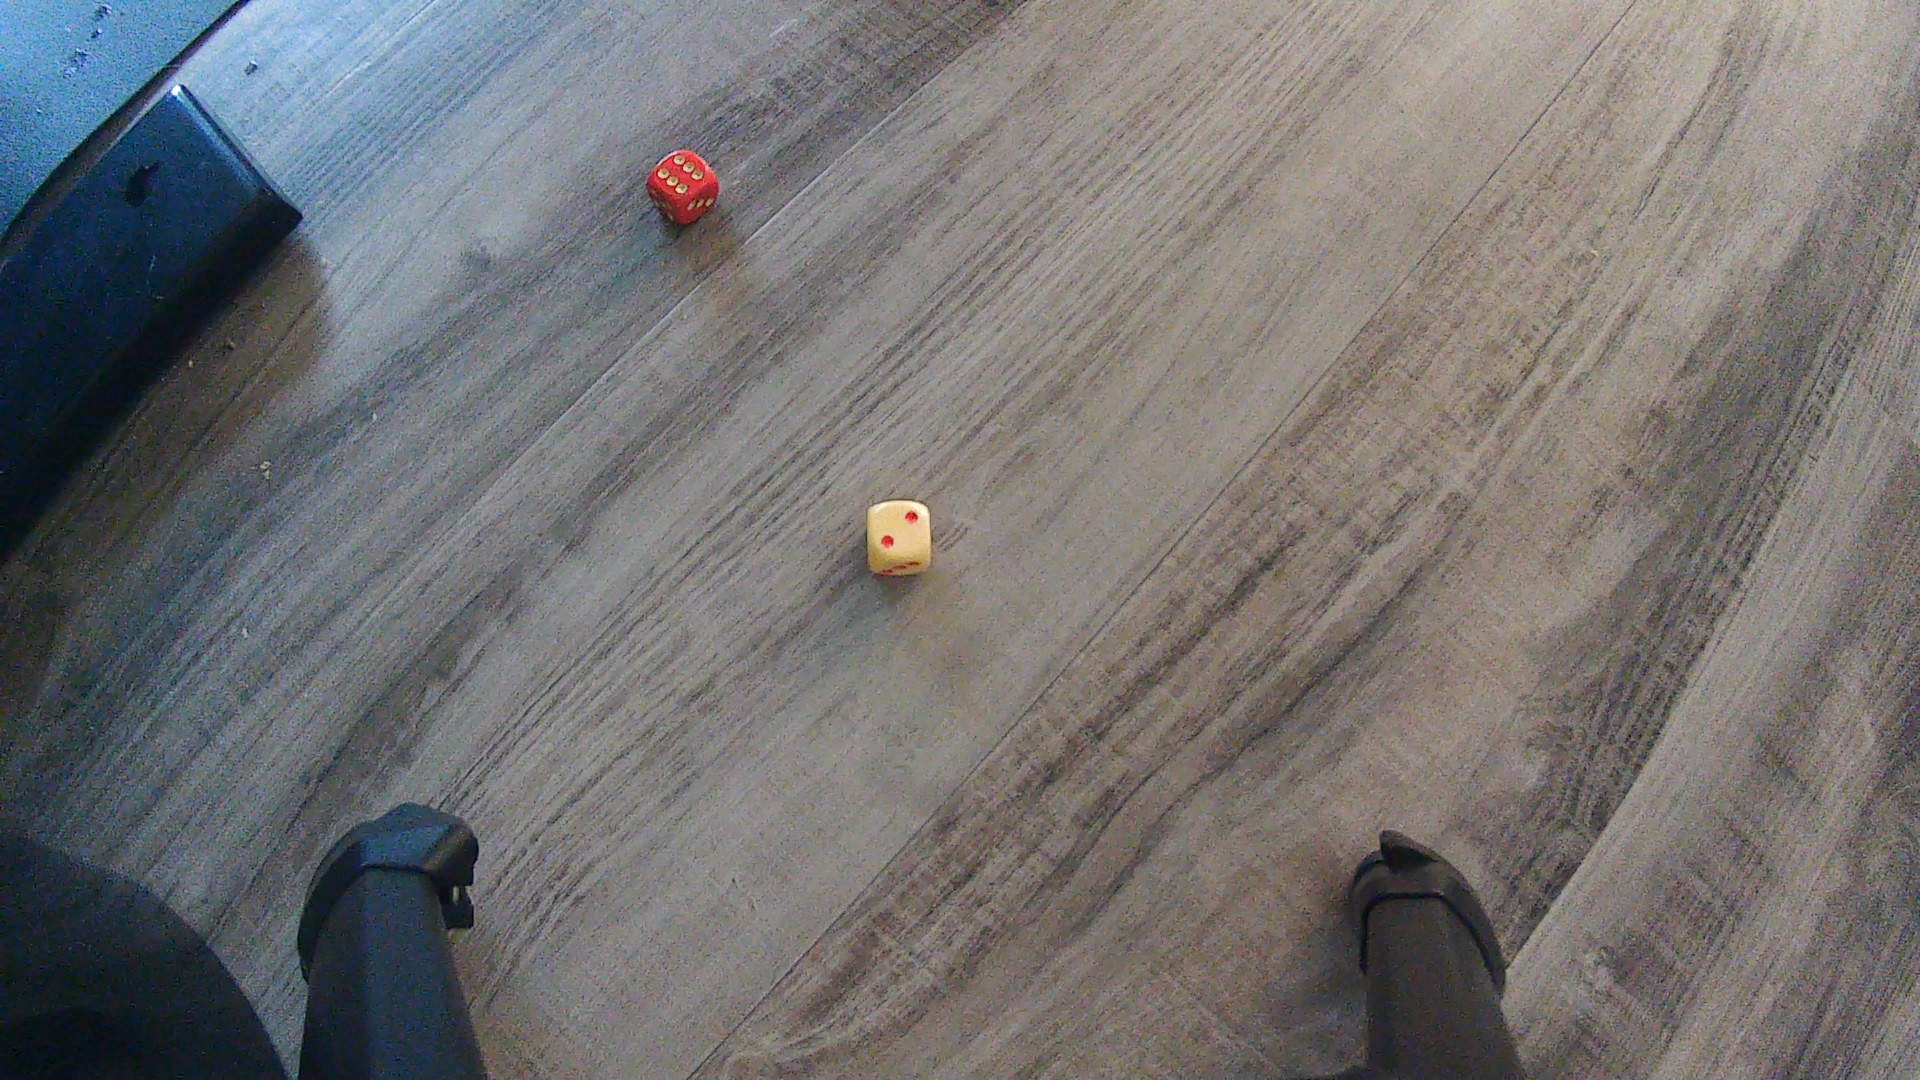die: (644, 149, 720, 229), (862, 497, 934, 578)
